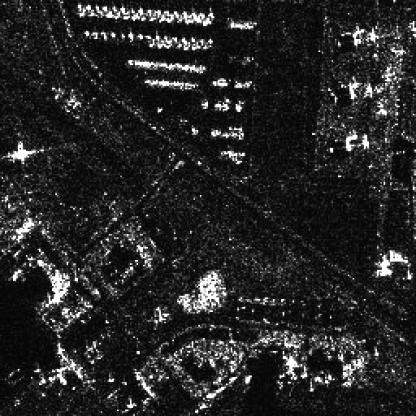airplane: (99, 31, 107, 41), (91, 31, 97, 41), (109, 31, 115, 39), (127, 32, 133, 40), (83, 29, 89, 36), (152, 34, 158, 41), (146, 34, 151, 41), (136, 33, 141, 39)
